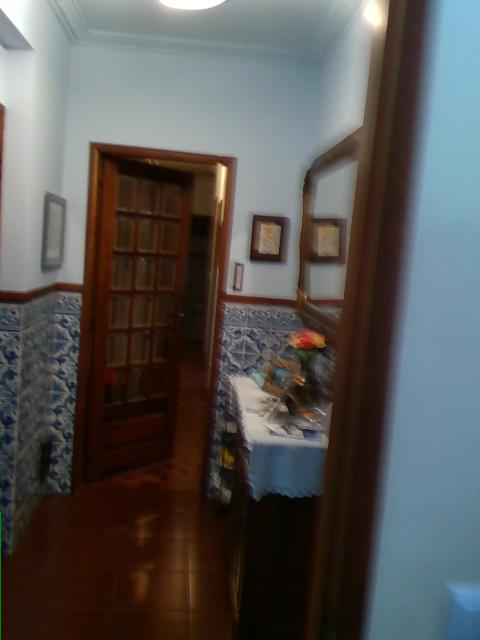semi_door: (69, 139, 238, 498)
